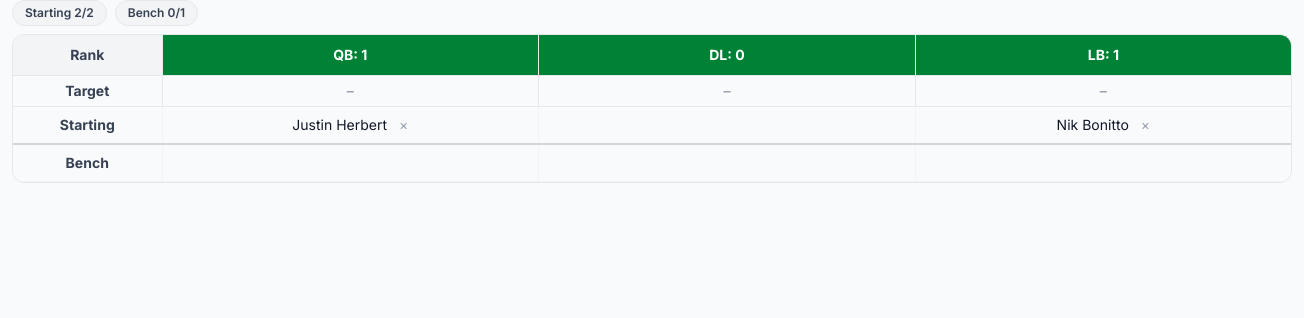
DepthChartTable › updates the section badges as the plan changes
The width and height of the screenshot is (1304, 318).
Check: the text "Starting 2/2" is shown, box x1=12 y1=0 x2=107 y2=26
Click the button named "Cut Justin Herbert" at (404, 125), box x1=395 y1=115 x2=412 y2=135
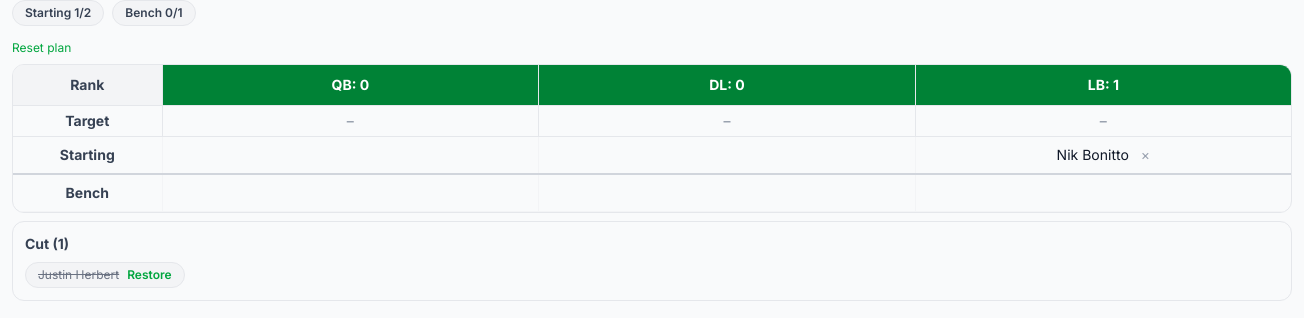
Check: the text "Starting 1/2" is shown, box x1=12 y1=0 x2=104 y2=26
